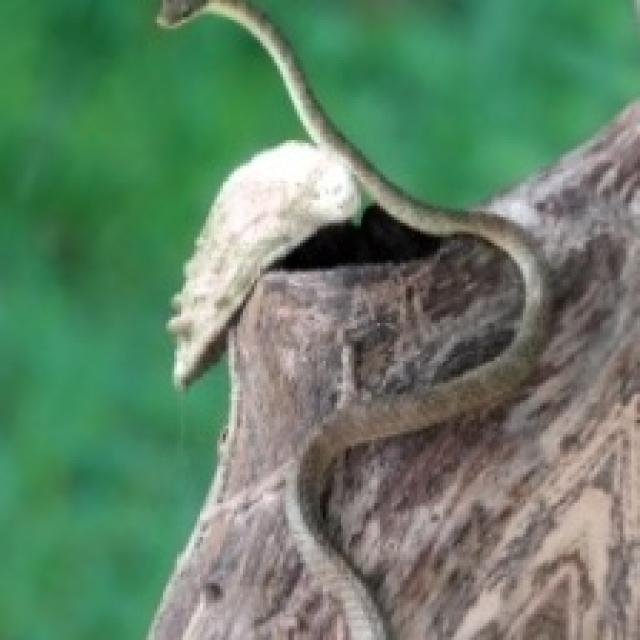paradise tree snake: (149, 0, 637, 637), (157, 0, 549, 637), (163, 457, 294, 606)
